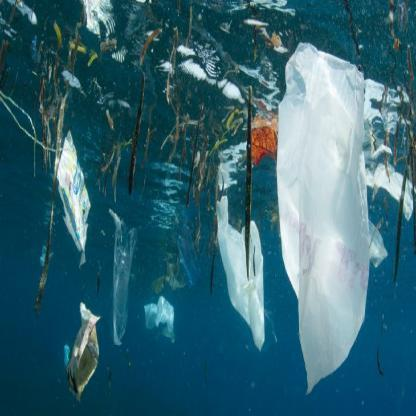Rác: (272, 42, 378, 384), (212, 187, 280, 330), (141, 200, 213, 292), (60, 307, 130, 401), (107, 222, 144, 358), (56, 128, 96, 248), (370, 150, 416, 212), (148, 283, 190, 344)
